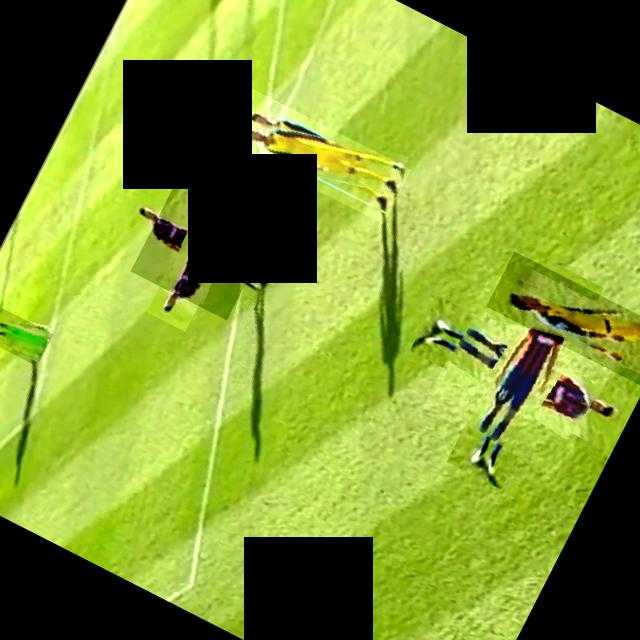goalkeeper: (0, 294, 54, 365)
soccer-player: (423, 272, 627, 476), (224, 88, 412, 224), (131, 174, 276, 320), (486, 251, 640, 387)
